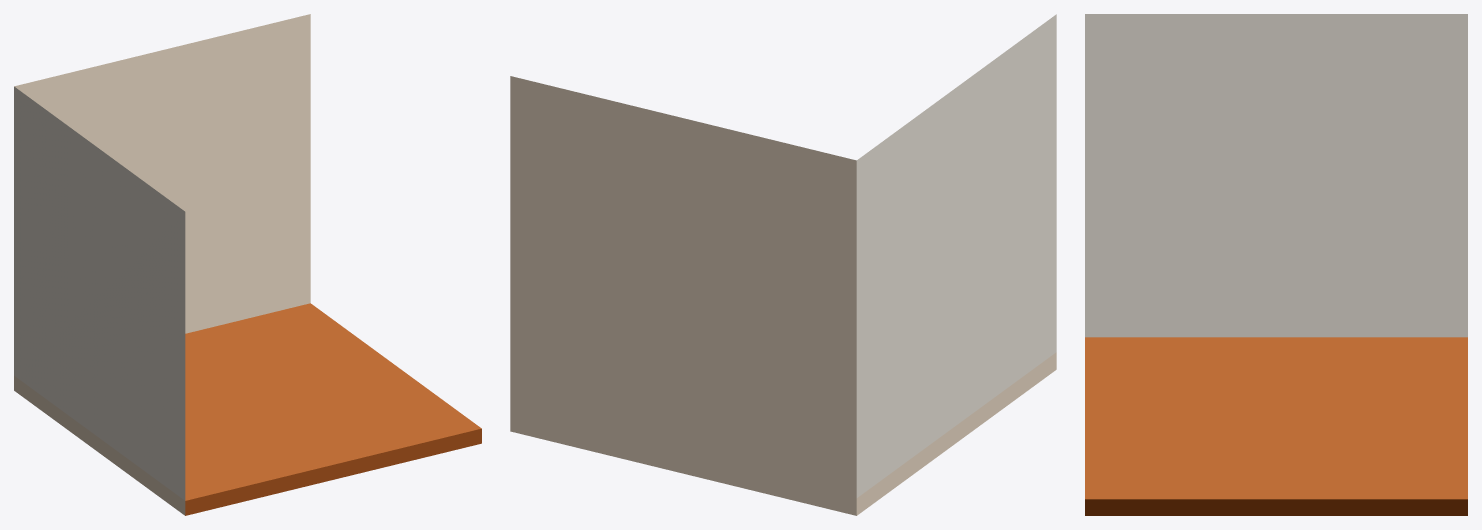
File: floor.FBX
3 views of the same model, side by side, from view 1: azimuth 30°, elevation 25°; view 2: azimuth 150°, elevation 25°; view 3: azimuth 270°, elevation 25° (orthographic). The views are drawn at different scales.
Parts seen in each view (by area): view 1: Object001, Object002, Box002; view 2: Object001, Object002, Box002; view 3: Object002, Box002.
Boxes of the visible parts, x1=… form: Object001: x1=14, y1=14, x2=310, y2=333; Object002: x1=14, y1=86, x2=185, y2=500; Box002: x1=14, y1=303, x2=481, y2=515; Object001: x1=510, y1=76, x2=856, y2=498; Object002: x1=856, y1=14, x2=1056, y2=497; Box002: x1=510, y1=352, x2=1056, y2=515; Object002: x1=1085, y1=14, x2=1467, y2=337; Box002: x1=1085, y1=337, x2=1467, y2=515.
Size of the model in its own units: 1074 by 1053 by 1074.
1 material, 1 textured.
